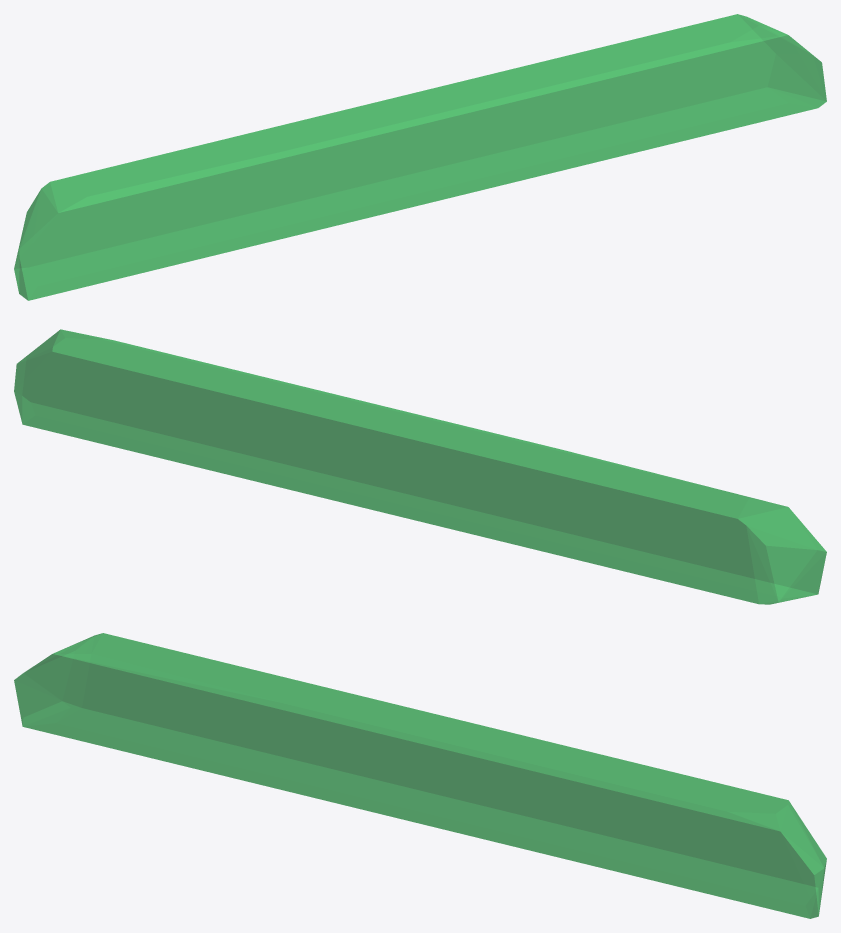
The picture shows the model from 3 angles, top to bottom: view 1: azimuth 30°, elevation 25°; view 2: azimuth 150°, elevation 25°; view 3: azimuth 330°, elevation 25°; orthographic projection.
Visible parts, largest first — view 1: Shape_IndexedFaceSet.001_Shape_IndexedFaceSet.9574; view 2: Shape_IndexedFaceSet.001_Shape_IndexedFaceSet.9574; view 3: Shape_IndexedFaceSet.001_Shape_IndexedFaceSet.9574.
Boxes of the visible parts, left/top/right/bottom form: Shape_IndexedFaceSet.001_Shape_IndexedFaceSet.9574: left=14, top=14, right=826, bottom=300; Shape_IndexedFaceSet.001_Shape_IndexedFaceSet.9574: left=14, top=329, right=826, bottom=604; Shape_IndexedFaceSet.001_Shape_IndexedFaceSet.9574: left=14, top=633, right=826, bottom=918.
Bounding box in the file's own units: 0.5276 × 0.053 × 0.0335.
